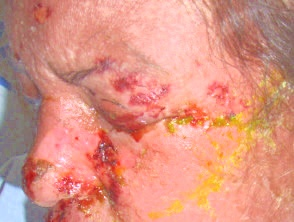SJS-TEN: (0, 3, 257, 222), (18, 0, 72, 41)
